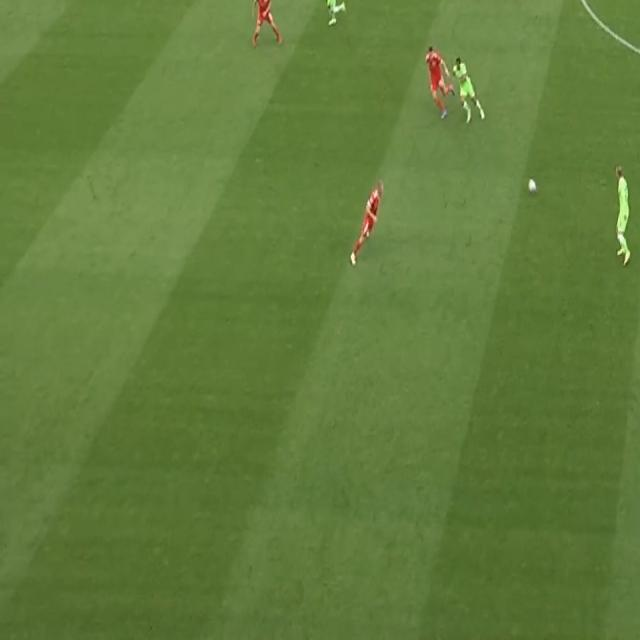ball: (527, 176, 538, 196)
